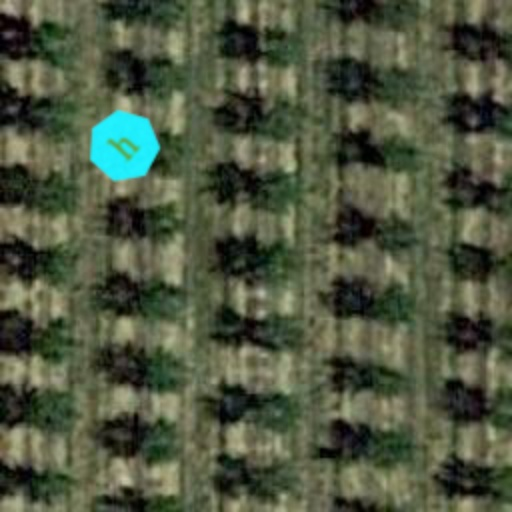heptagon: (72, 94, 176, 198)
